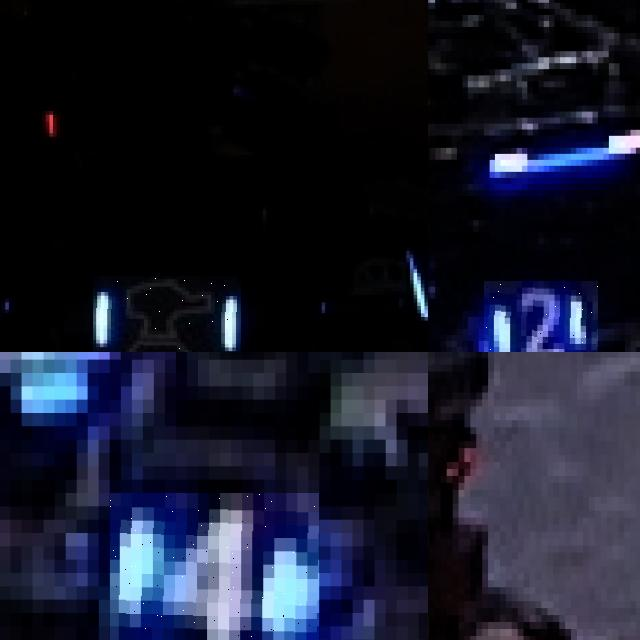B2: (484, 280, 598, 352)
B4: (109, 493, 319, 640)
Bs: (93, 276, 240, 352)
